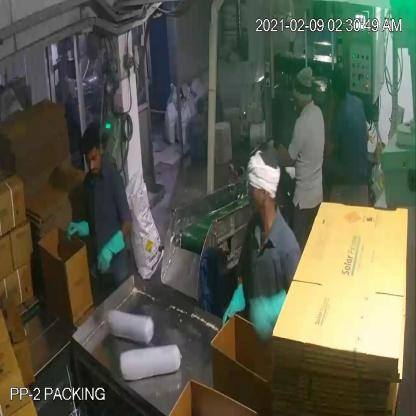glove: (246, 288, 288, 344), (92, 224, 132, 280), (218, 280, 252, 336), (65, 213, 95, 245)
